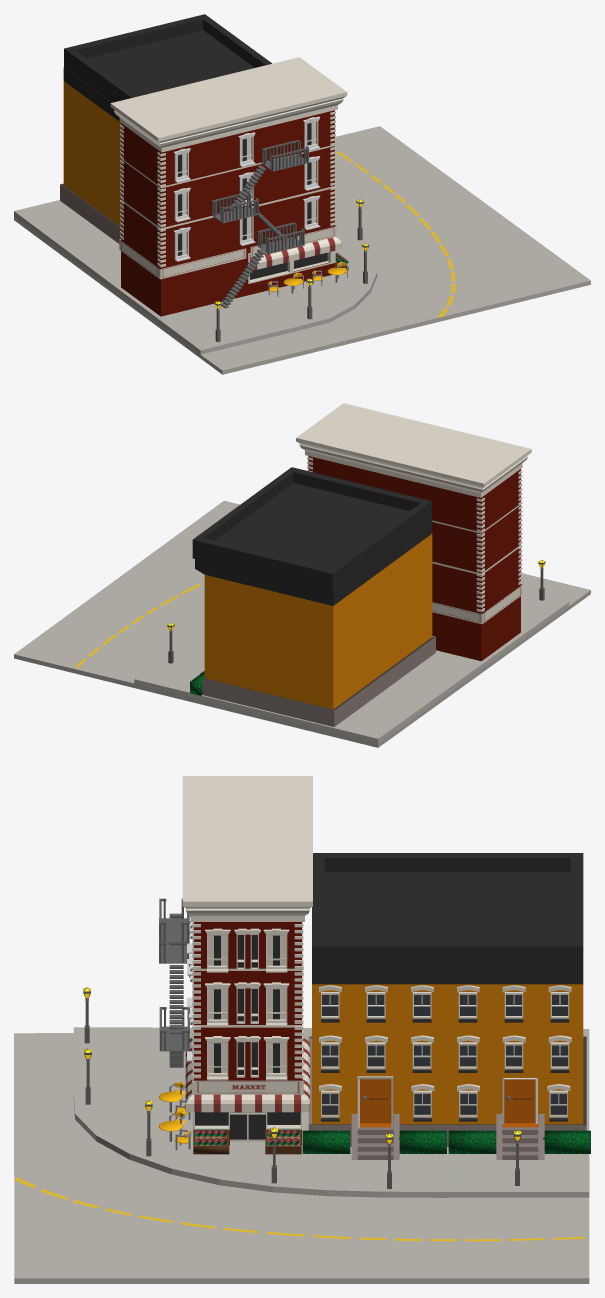
File: Albinkeer-DCLcontest21-Scene.glb
3 renders of one model, top to bottom at view 1: azimuth 30°, elevation 25°; view 2: azimuth 150°, elevation 25°; view 3: azimuth 270°, elevation 25°, orthographic. The views are drawn at different scales.
Visible parts, largest first — view 1: Ground, House, Roof, Roof_y, Yellow_h, W3, Stair, Market_2, Det_1, Market_; view 2: Ground, Yellow_h, Roof_y, House, Roof, Det_1, Market_2; view 3: Ground, Roof_y, Yellow_h, Roof, Wind_Y_h, House, Stair, Market_, W1, W4, W2, Det_1 (+9 smaller).
Boxes of the visible parts, <box> form: Ground: <box>14,126,590,374</box>; House: <box>121,110,335,316</box>; Roof: <box>110,57,347,152</box>; Roof_y: <box>63,14,271,121</box>; Yellow_h: <box>60,81,120,243</box>; W3: <box>174,116,320,261</box>; Stair: <box>211,140,309,308</box>; Market_2: <box>119,225,336,279</box>; Det_1: <box>120,111,335,267</box>; Market_: <box>249,237,341,270</box>; Ground: <box>14,500,590,747</box>; Yellow_h: <box>202,534,435,726</box>; Roof_y: <box>192,467,432,605</box>; House: <box>308,456,520,661</box>; Roof: <box>296,403,531,497</box>; Det_1: <box>307,457,522,612</box>; Market_2: <box>432,584,522,624</box>; Ground: <box>14,1027,589,1283</box>; Roof_y: <box>312,853,583,984</box>; Yellow_h: <box>308,984,586,1146</box>; Roof: <box>182,776,312,921</box>; Wind_Y_h: <box>319,985,571,1121</box>; House: <box>192,922,301,1145</box>; Stair: <box>159,898,189,1067</box>; Market_: <box>185,1037,309,1112</box>; W1: <box>263,928,289,1080</box>; W4: <box>205,928,230,1080</box>; W2: <box>234,928,260,1077</box>; Det_1: <box>192,922,303,1078</box>.
Size of what is drawn, in the model's own units: 32.32 by 16.02 by 31.96.
Materials: 8 (5 with a texture image).
